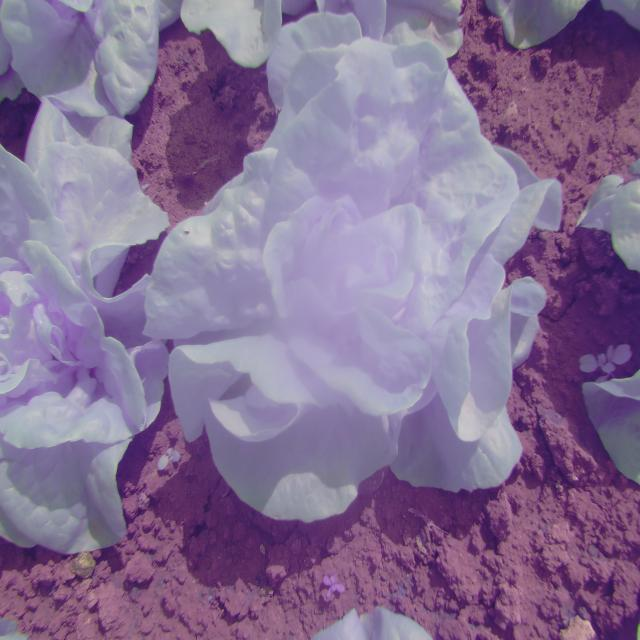vege: (151, 36, 555, 525)
